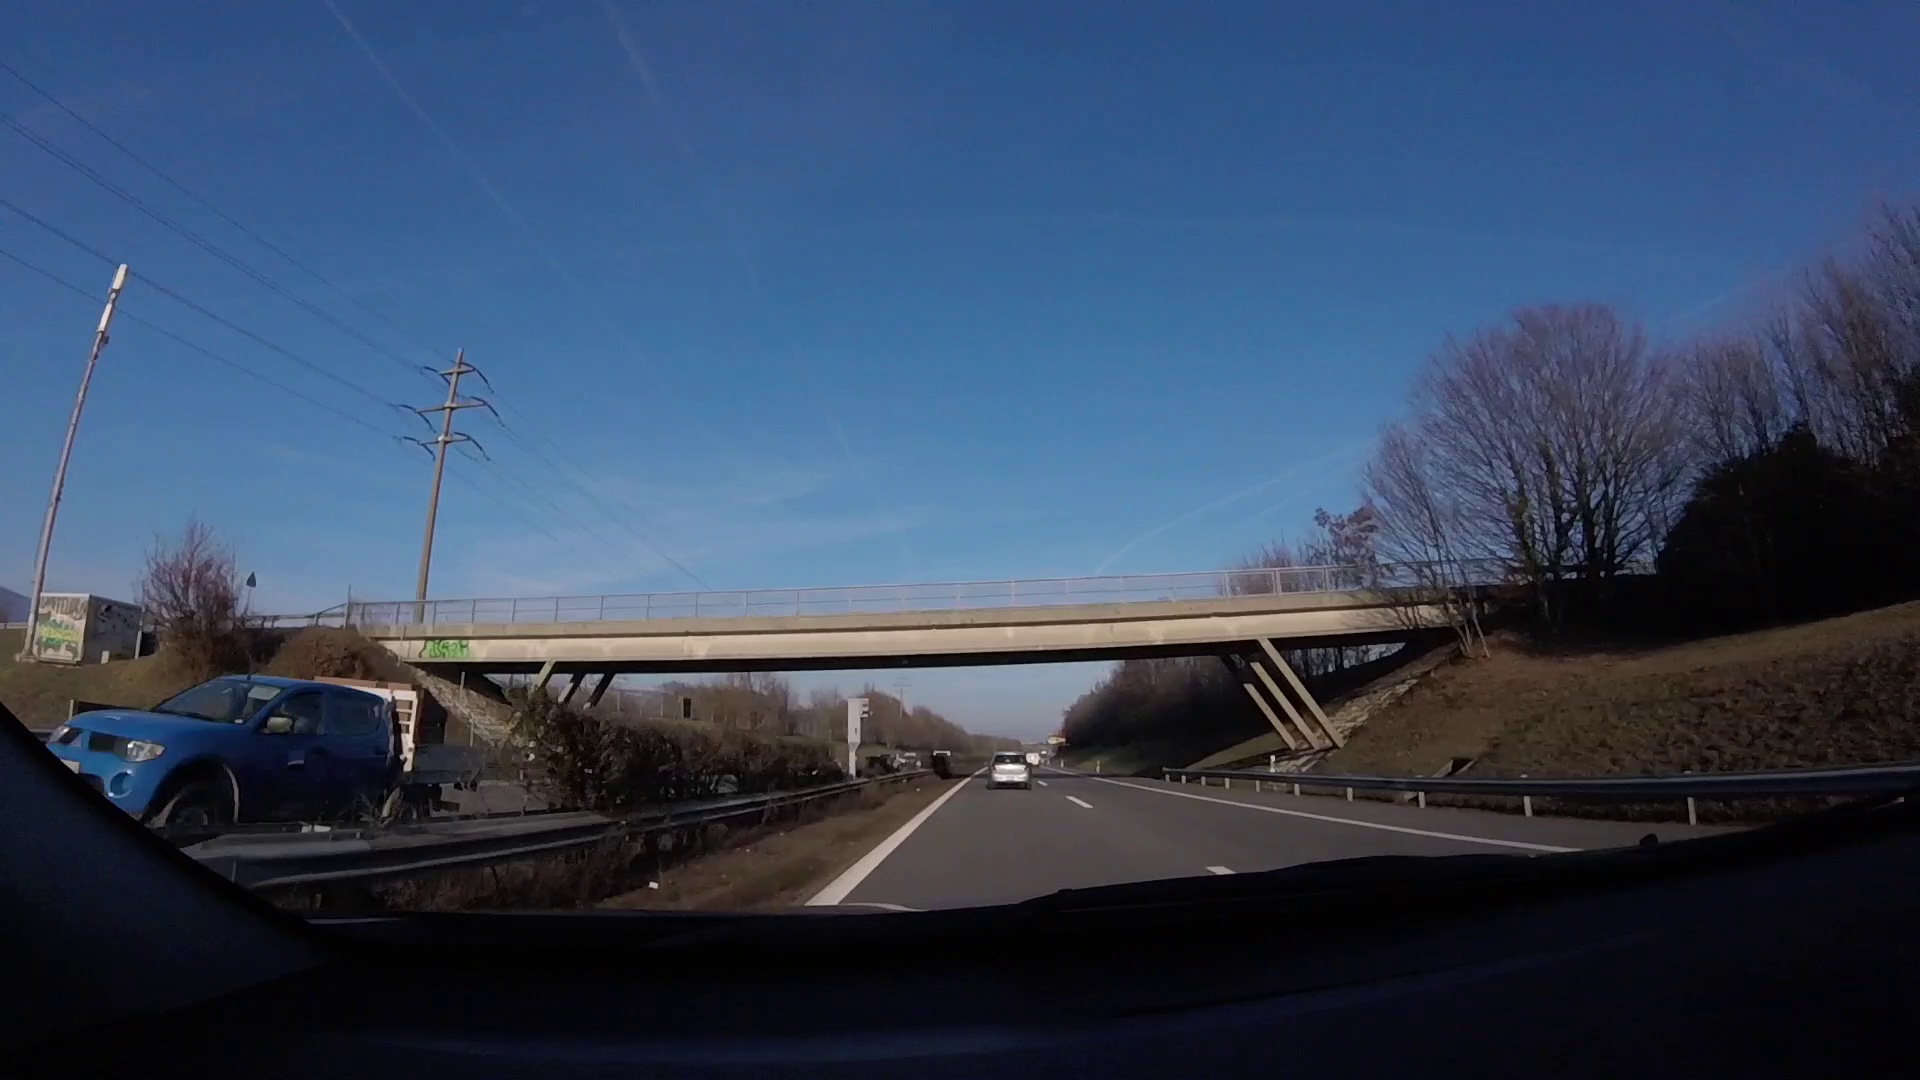radar: (844, 696, 876, 781)
